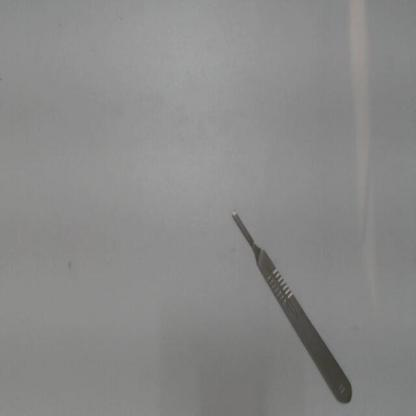No.4 BP Handle: (228, 204, 360, 412)
